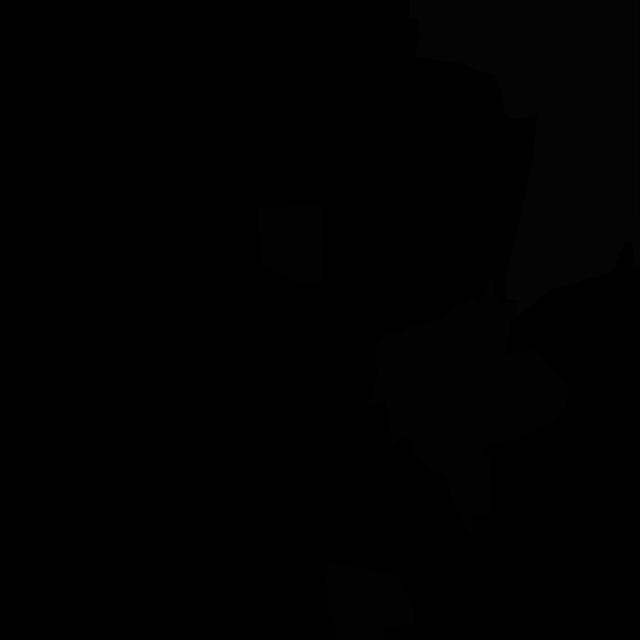cardboard: (370, 280, 572, 535), (325, 561, 415, 640), (257, 203, 324, 285)
soft_plastic: (409, 0, 640, 317)
